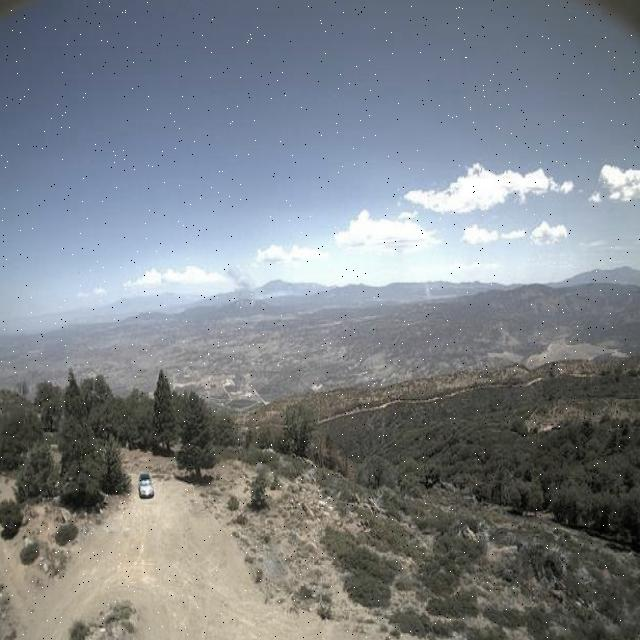smoke: (219, 260, 258, 310)
